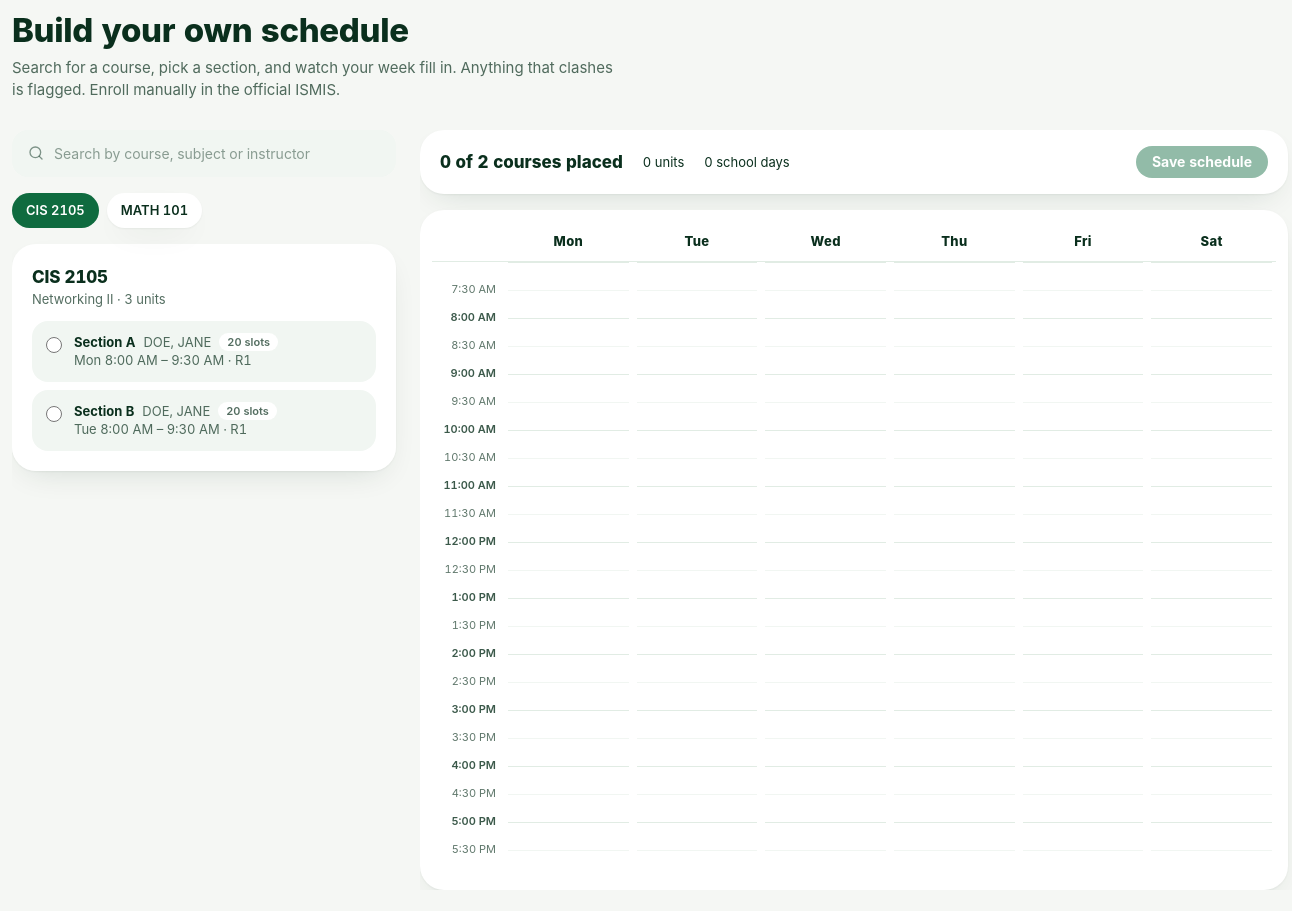
Test: BuildSchedulePage › flags a section that would clash before it is picked, and blocks saving a clashing pick
Click the radio button with aria-label "CIS 2105 section A": (54, 345) [46,337,62,353]
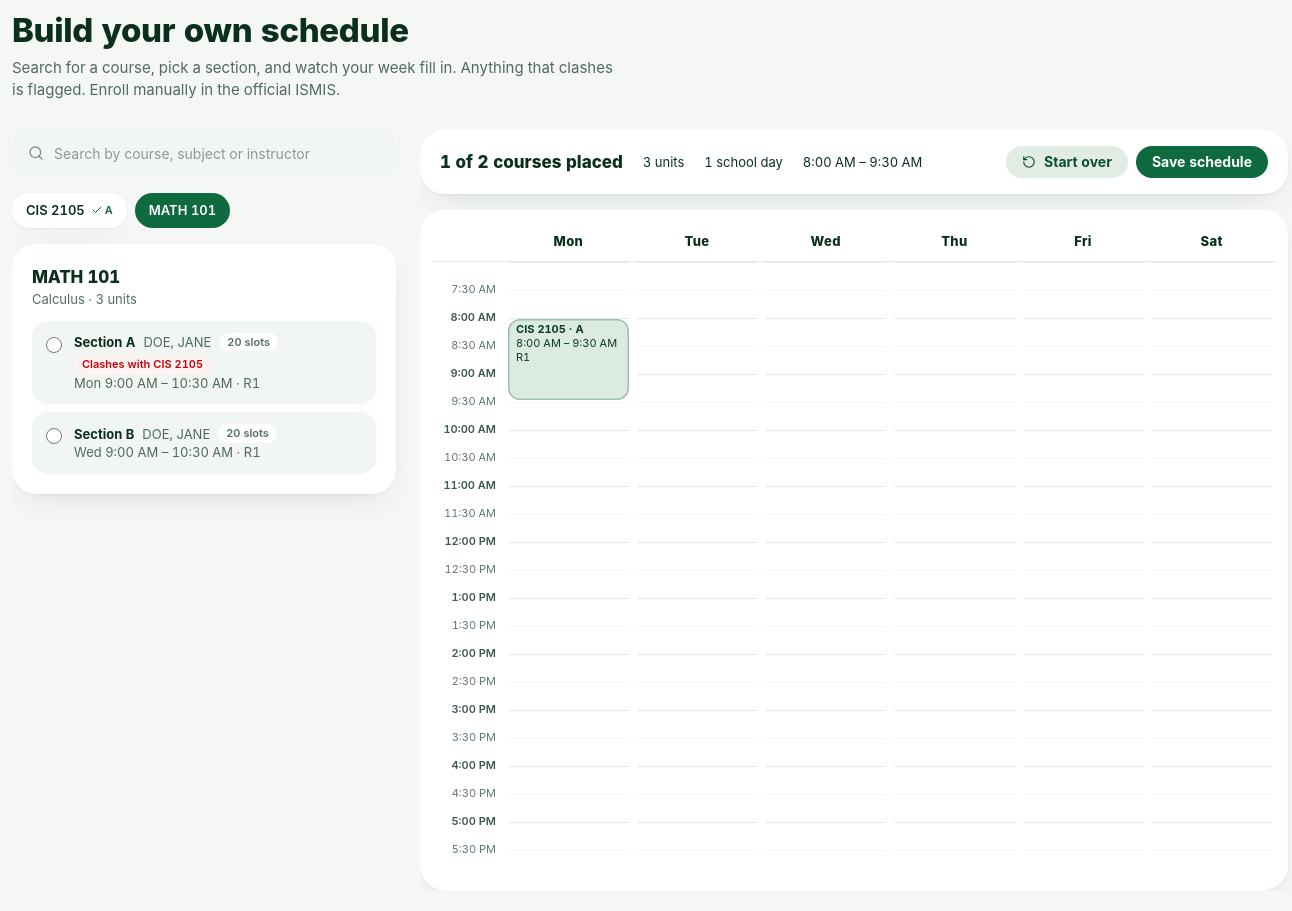
expect the text "Clashes with CIS 2105" is shown: met, box [74,355,211,374]
Click the radio button with aria-label "MATH 101 section A": (54, 345) [46,337,62,353]
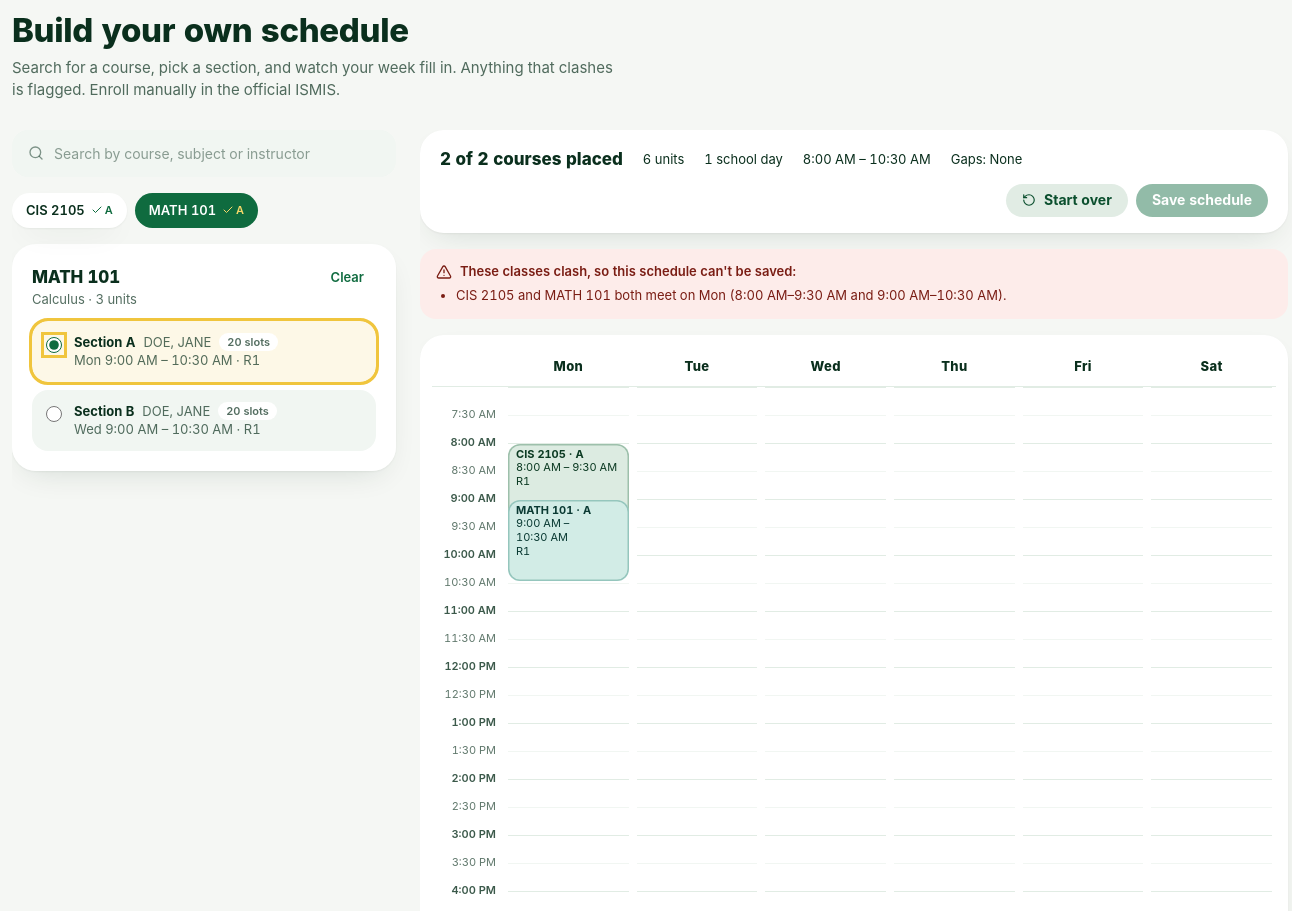
expect the message shows "can't be saved": met, box [460,264,796,280]
expect the button "Save schedule" is disabled: met, box [1136,184,1268,217]
Click the radio button with aria-label "MATH 101 section B": (54, 414) [46,406,62,422]
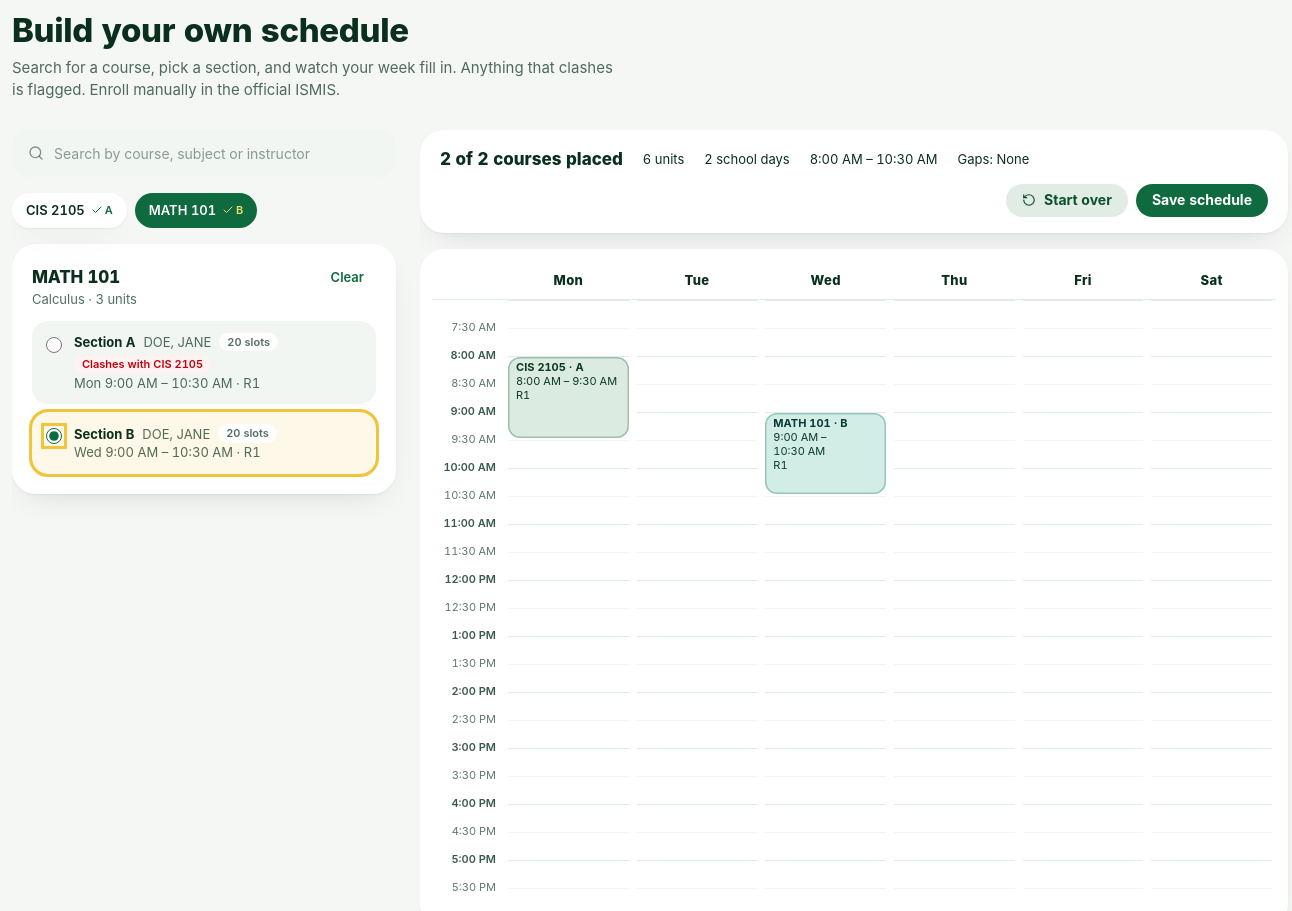
expect the button "Save schedule" is enabled: met, box [1136,184,1268,217]
